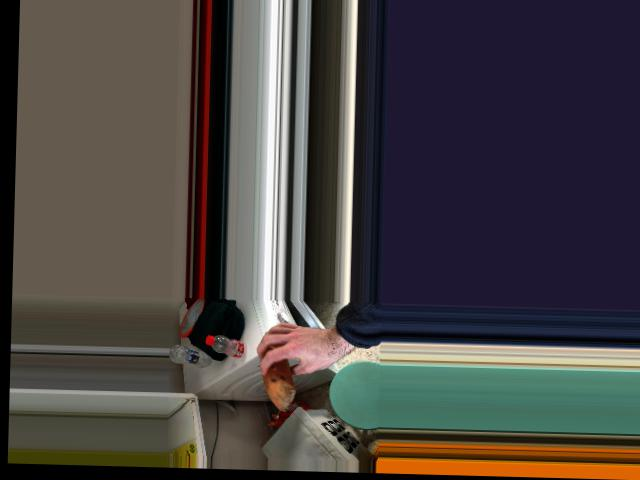sweet_potato: (262, 339, 295, 408)
